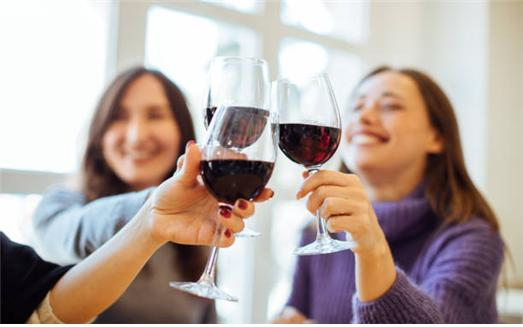alcohol: (174, 102, 273, 305), (271, 71, 355, 257), (202, 57, 268, 158)
